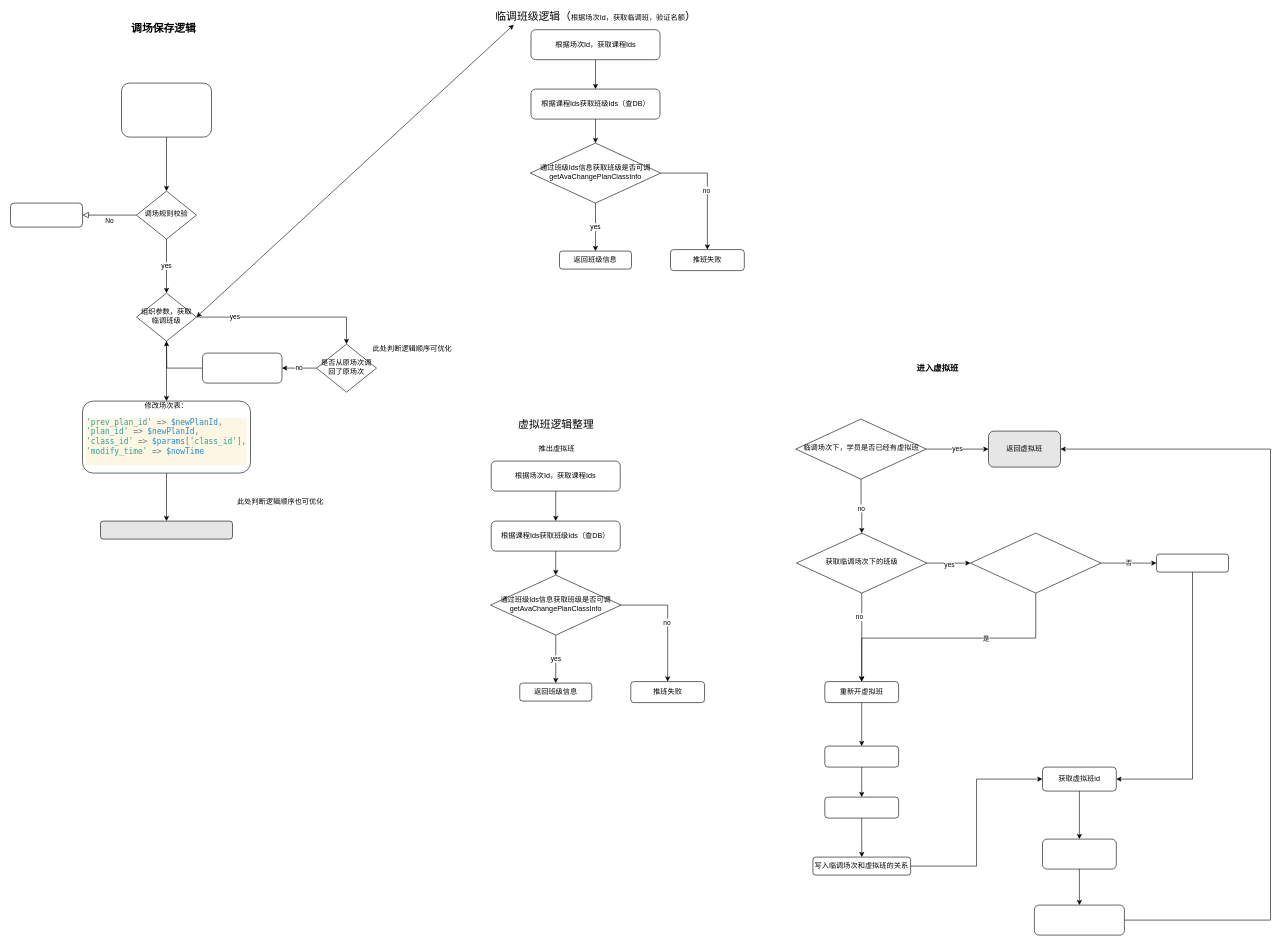
This 1286x946 diagram has some shape labels left out. Here are the shapes that lost their labels. From the top down, the centre of each, then its label:
point 166,109: 调场主要入参： stu_cou_id stu_id plan_id new_plan_id
point 46,214: 结束
point 242,367: 修改组织参数tmp_class_id=推荐班id
point 166,529: 虚拟班逻辑处理
point 1035,562: 循环判断虚拟班是否超过班级限额300
point 1192,563: 返回虚拟班id
point 861,756: 生成自增的虚拟班id
point 861,807: 写入虚拟班下的一些基础信息
point 1079,853: 虚拟班下添加学员
point 1079,919: 临调场次集合下写入学员
